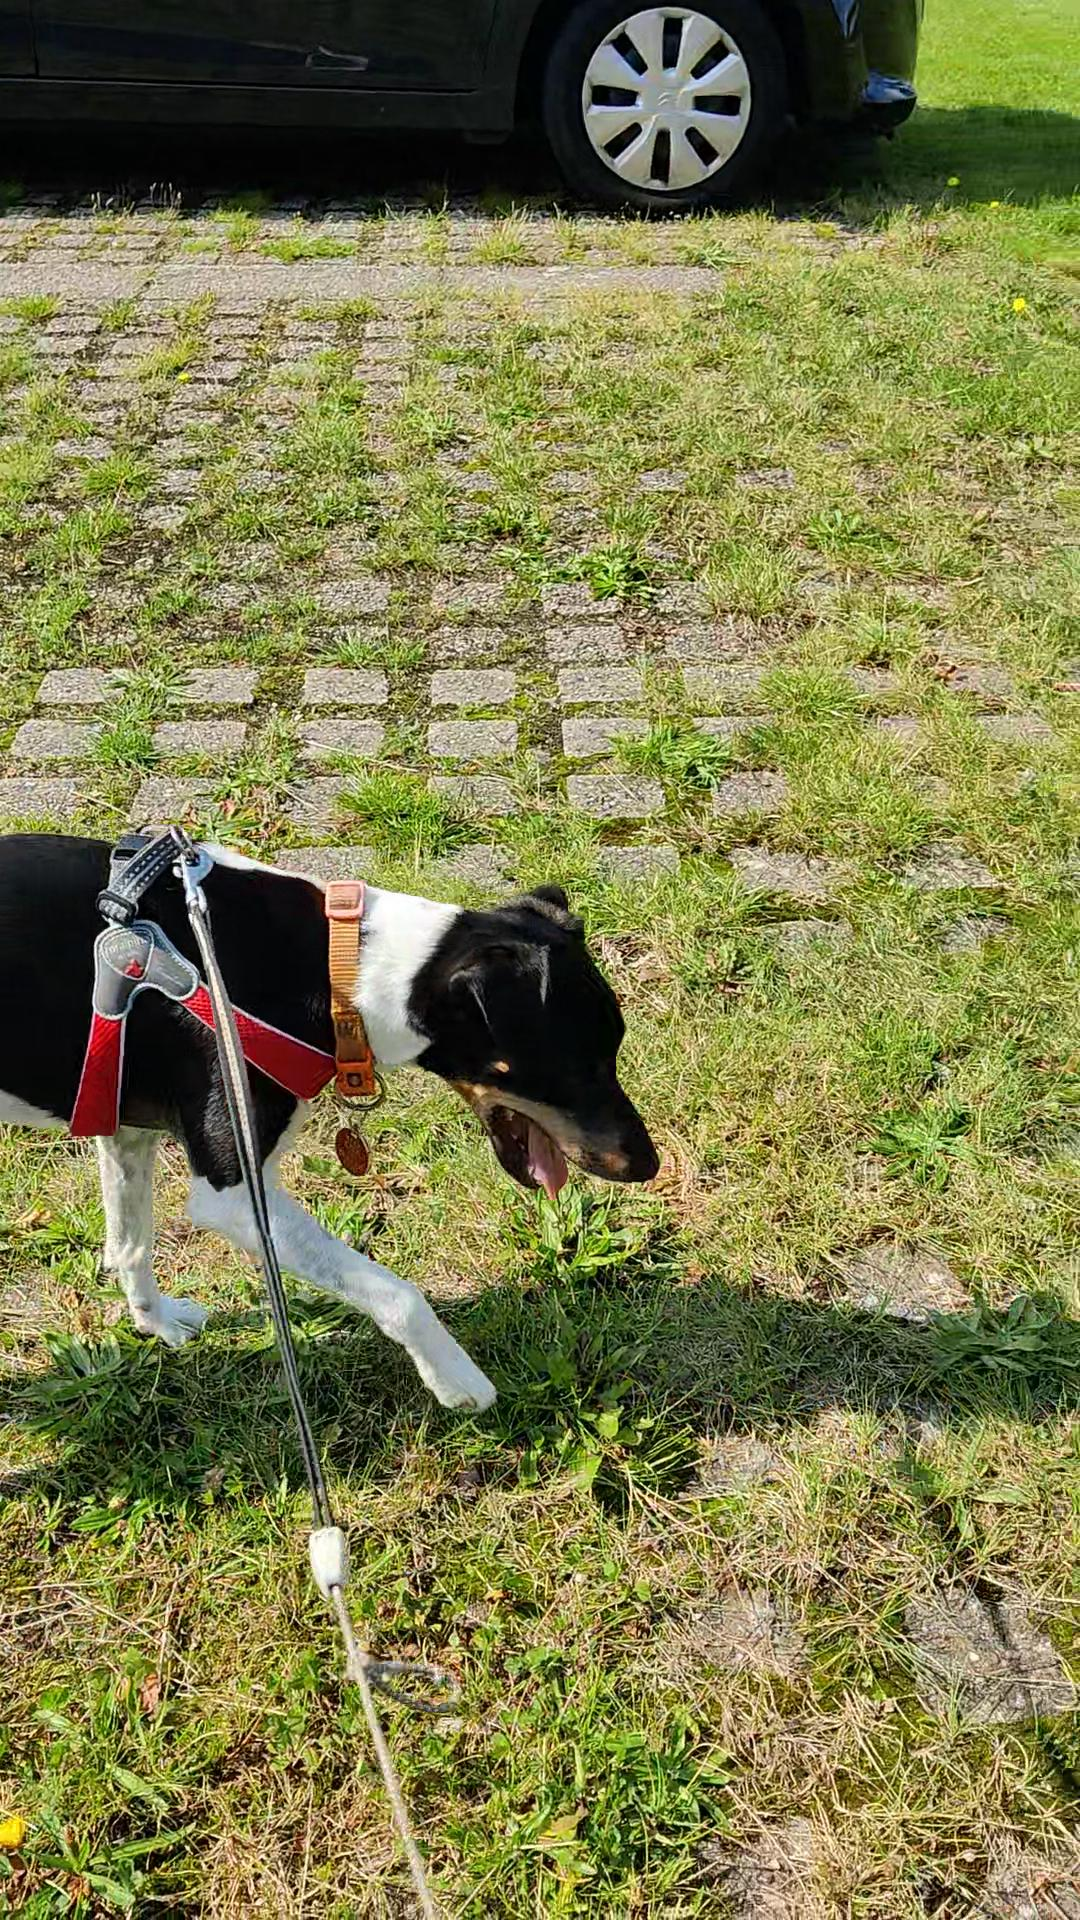Dog: (0, 822, 663, 1411)
